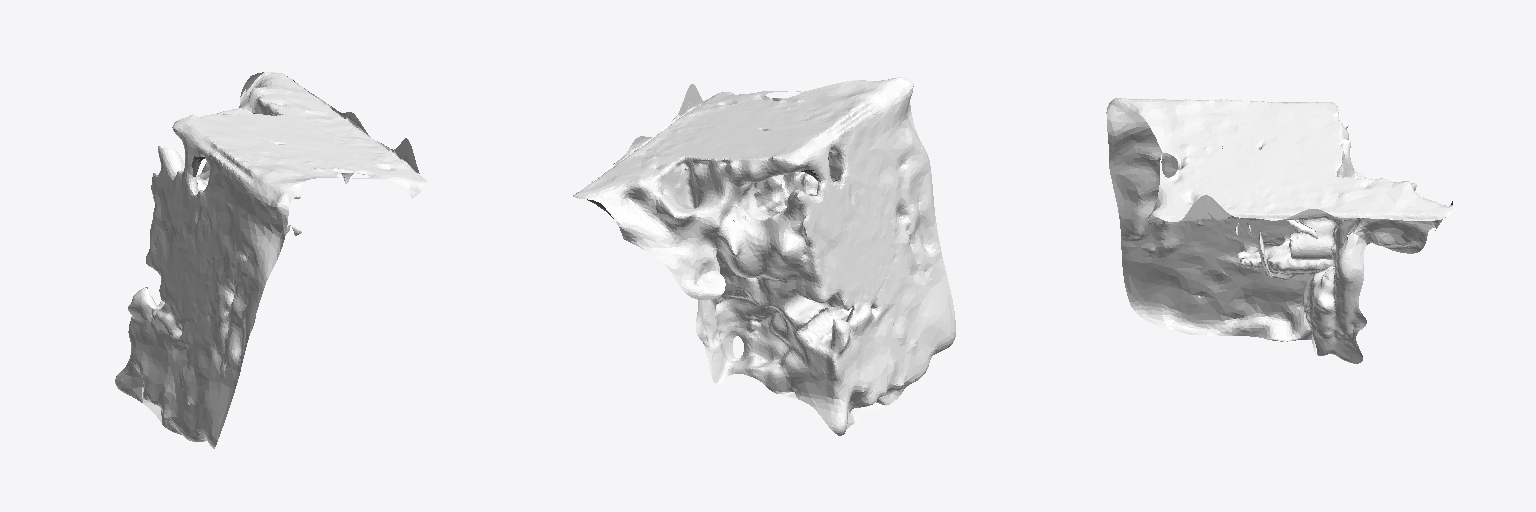
The model's file is Capture_2013_12_29_18_12_52.obj.
The picture shows the model from 3 angles: view 1: azimuth 30°, elevation 25°; view 2: azimuth 150°, elevation 25°; view 3: azimuth 270°, elevation 25°; orthographic projection.
Bounding box in the file's own units: 28.9 × 31.93 × 37.78.